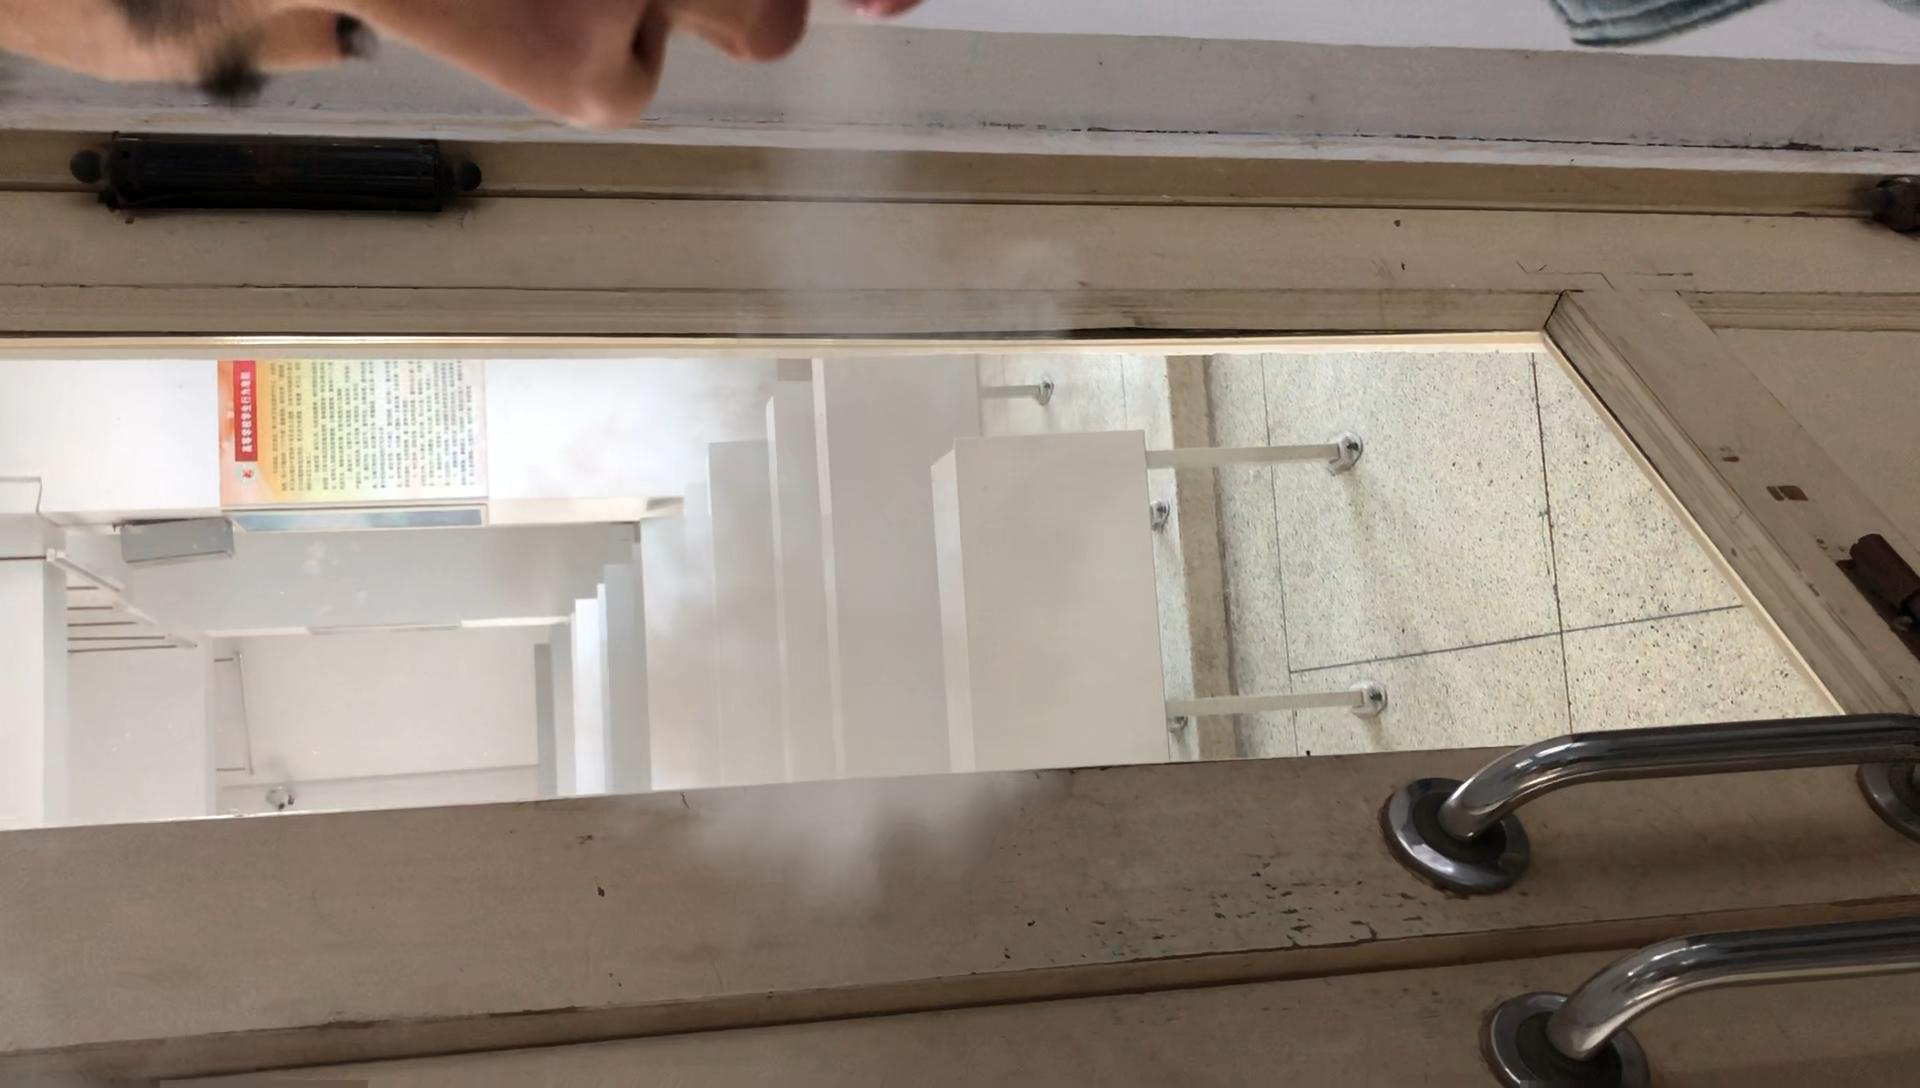yanwu: (525, 67, 1149, 888)
